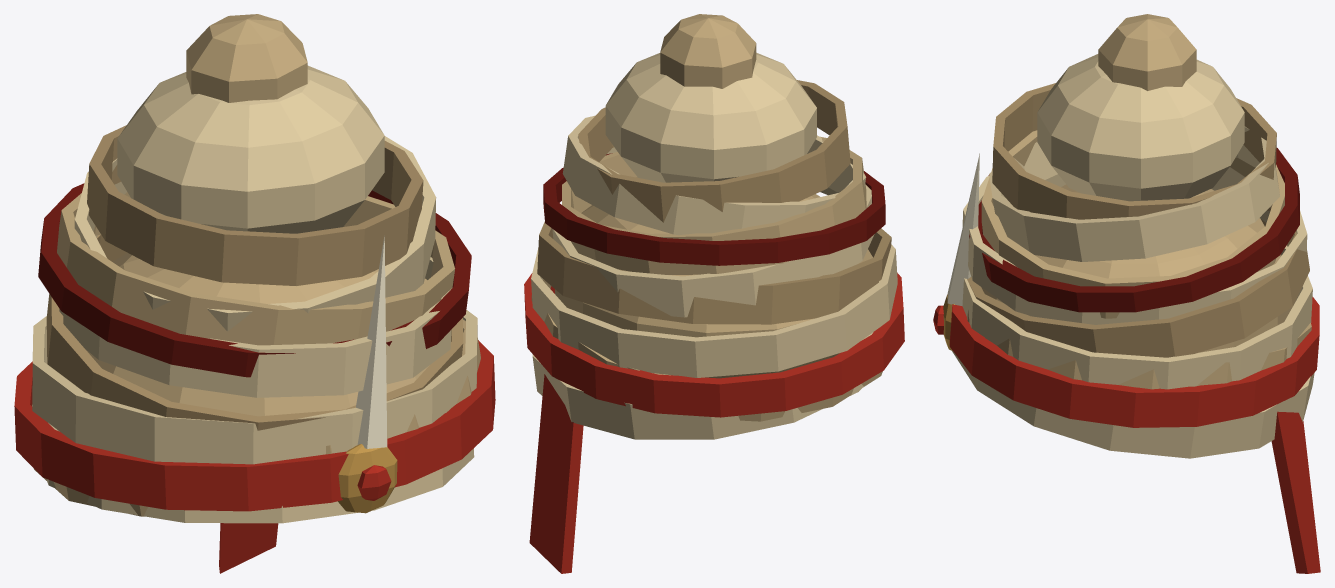
Rendered from raider_chief_turban.glb.
3 renders of one model, left to right at view 1: azimuth 30°, elevation 25°; view 2: azimuth 150°, elevation 25°; view 3: azimuth 270°, elevation 25°, orthographic. The views are drawn at different scales.
Parts seen in each view (by area): view 1: raider_chief_turban; view 2: raider_chief_turban; view 3: raider_chief_turban.
Boxes of the visible parts, x1,y1,x2,y2 form: raider_chief_turban: (14,14,495,573); raider_chief_turban: (524,14,904,573); raider_chief_turban: (933,14,1320,573).
Size of the model in its own units: 1.24 by 1.79 by 1.2.
